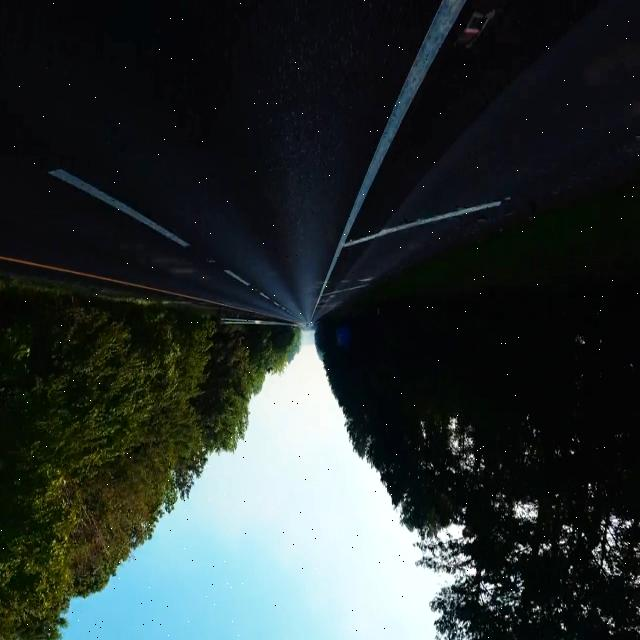lane: (312, 0, 465, 322), (0, 256, 221, 306), (50, 170, 189, 247)
road: (1, 2, 441, 322), (316, 4, 638, 319)
